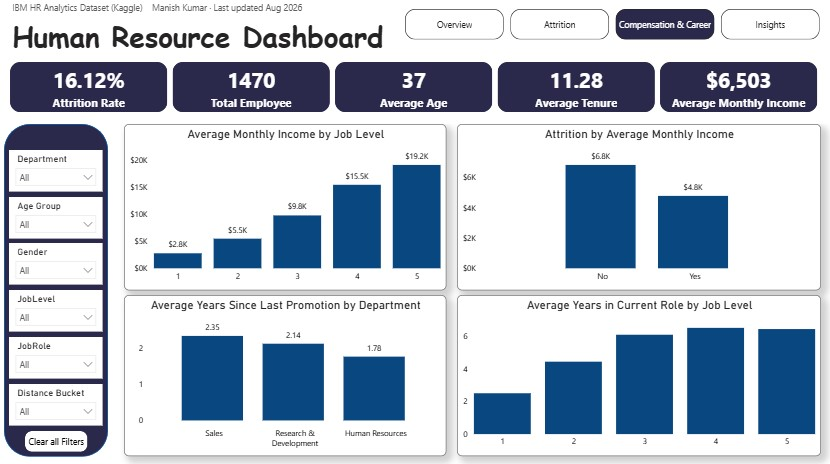

Layout of this report page (visuals, bound fields, positions):
{"tool":"powerbi","page":{"name":"Compensation & Career","canvas":[1280,720],"ordinal":2},"visuals":[{"type":"clusteredColumnChart","title":"Average Monthly Income by Job Level","fields":{"Category":["HR_Analytics.JobLevel"],"Y":["Avg(HR_Analytics.MonthlyIncome)"]},"box":[192,192,496,256],"z":0},{"type":"clusteredColumnChart","title":"Attrition by Average Monthly Income","fields":{"Category":["HR_Analytics.Attrition"],"Y":["Avg(HR_Analytics.MonthlyIncome)"]},"box":[704,192,560,256],"z":1000},{"type":"clusteredColumnChart","title":"Average Years Since Last Promotion by Department","fields":{"Category":["HR_Analytics.Department"],"Y":["Avg(HR_Analytics.YearsSinceLastPromotion)"]},"box":[192,456,496,248],"z":2000},{"type":"textbox","box":[16,0,592,96],"z":3000},{"type":"cardVisual","fields":{"Data":["HR_Analytics.Attrition Rate","HR_Analytics.Total Employee","Avg(HR_Analytics.Age)","Avg(HR_Analytics.TotalWorkingYears)","Avg(HR_Analytics.MonthlyIncome)"]},"box":[0,80,1280,112],"z":4000},{"type":"clusteredColumnChart","title":"Average Years in Current Role by Job Level","fields":{"Category":["HR_Analytics.JobLevel"],"Y":["Avg(HR_Analytics.YearsInCurrentRole)"]},"box":[704,456,560,248],"z":5000},{"type":"pageNavigator","box":[624,16,640,48],"z":6000},{"type":"shape","box":[8,192,160,512],"z":7000},{"type":"slicer","fields":{"Values":["HR_Analytics.Department"]},"box":[16,232,144,64],"z":8000},{"type":"slicer","fields":{"Values":["HR_Analytics.Age Group"]},"box":[16,304,144,64],"z":9000},{"type":"slicer","fields":{"Values":["HR_Analytics.Gender"]},"box":[16,376,144,64],"z":10000},{"type":"slicer","fields":{"Values":["HR_Analytics.JobLevel"]},"box":[16,448,144,64],"z":11000},{"type":"slicer","fields":{"Values":["HR_Analytics.JobRole"]},"box":[16,520,144,64],"z":12000},{"type":"slicer","fields":{"Values":["HR_Analytics.Distance Bucket"]},"box":[16,592,144,64],"z":13000},{"type":"actionButton","box":[40,664,96,32],"z":14000}]}

Visuals, with their boxes in screenshot pixels (x1, y1, x2, y2), scaled from the page's 1280x720 canvas onto the 830x464 screenshot:
"Average Monthly Income by Job Level" clusteredColumnChart: l=124, t=124, r=446, b=289
"Attrition by Average Monthly Income" clusteredColumnChart: l=456, t=124, r=820, b=289
"Average Years Since Last Promotion by Department" clusteredColumnChart: l=124, t=294, r=446, b=454
textbox: l=10, t=0, r=394, b=62
cardVisual - HR_Analytics.Attrition Rate x HR_Analytics.Total Employee: l=0, t=52, r=829, b=124
"Average Years in Current Role by Job Level" clusteredColumnChart: l=456, t=294, r=820, b=454
pageNavigator: l=405, t=10, r=820, b=41
shape: l=5, t=124, r=109, b=454
slicer - HR_Analytics.Department: l=10, t=150, r=104, b=191
slicer - HR_Analytics.Age Group: l=10, t=196, r=104, b=237
slicer - HR_Analytics.Gender: l=10, t=242, r=104, b=284
slicer - HR_Analytics.JobLevel: l=10, t=289, r=104, b=330
slicer - HR_Analytics.JobRole: l=10, t=335, r=104, b=376
slicer - HR_Analytics.Distance Bucket: l=10, t=382, r=104, b=423
actionButton: l=26, t=428, r=88, b=449
